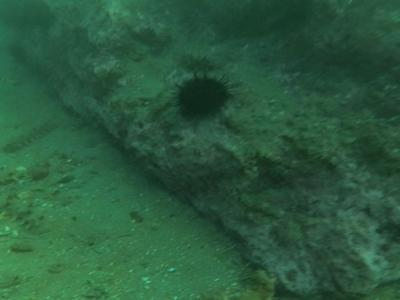holothurian: (222, 262, 281, 296), (6, 195, 50, 235), (4, 121, 59, 151)
urchin: (176, 67, 234, 121)
